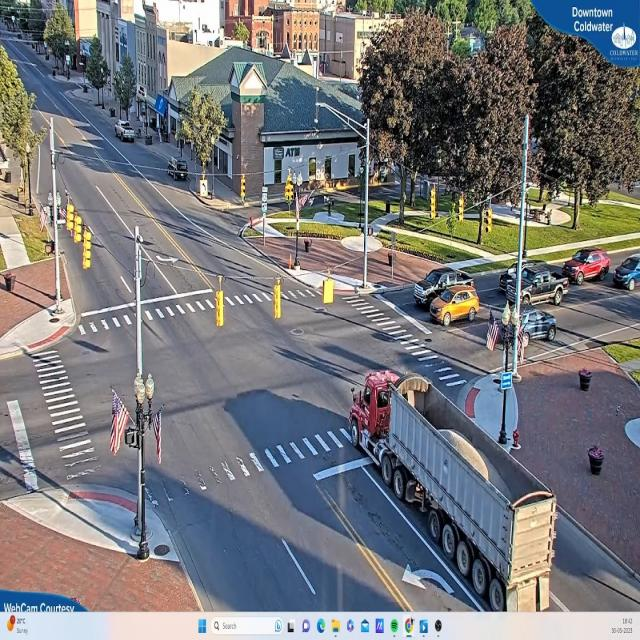car: (498, 262, 570, 308), (412, 267, 476, 307), (431, 291, 482, 326), (562, 250, 610, 284), (520, 307, 558, 340), (614, 253, 640, 291), (167, 156, 187, 178)
